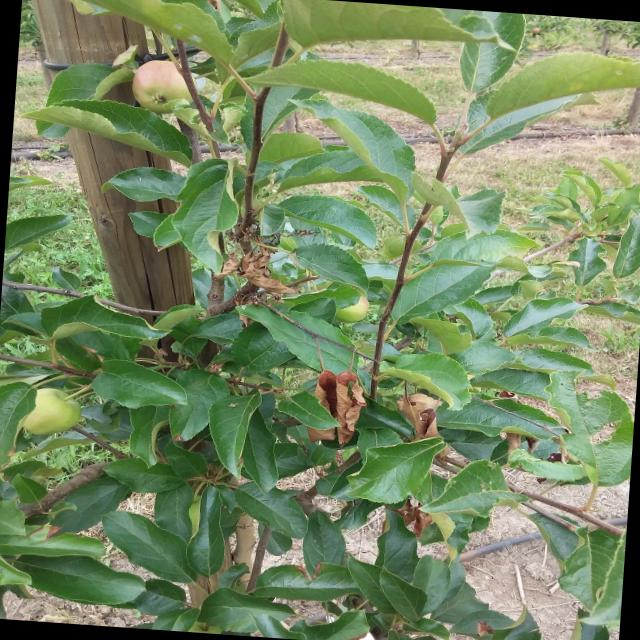-FireBlight-: (311, 353, 369, 450), (230, 228, 296, 310), (398, 386, 443, 444)
